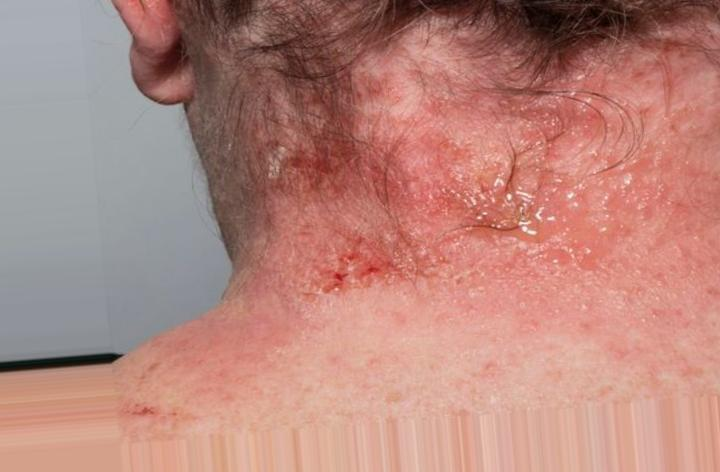Contact Dermatitis: (226, 19, 690, 299)
